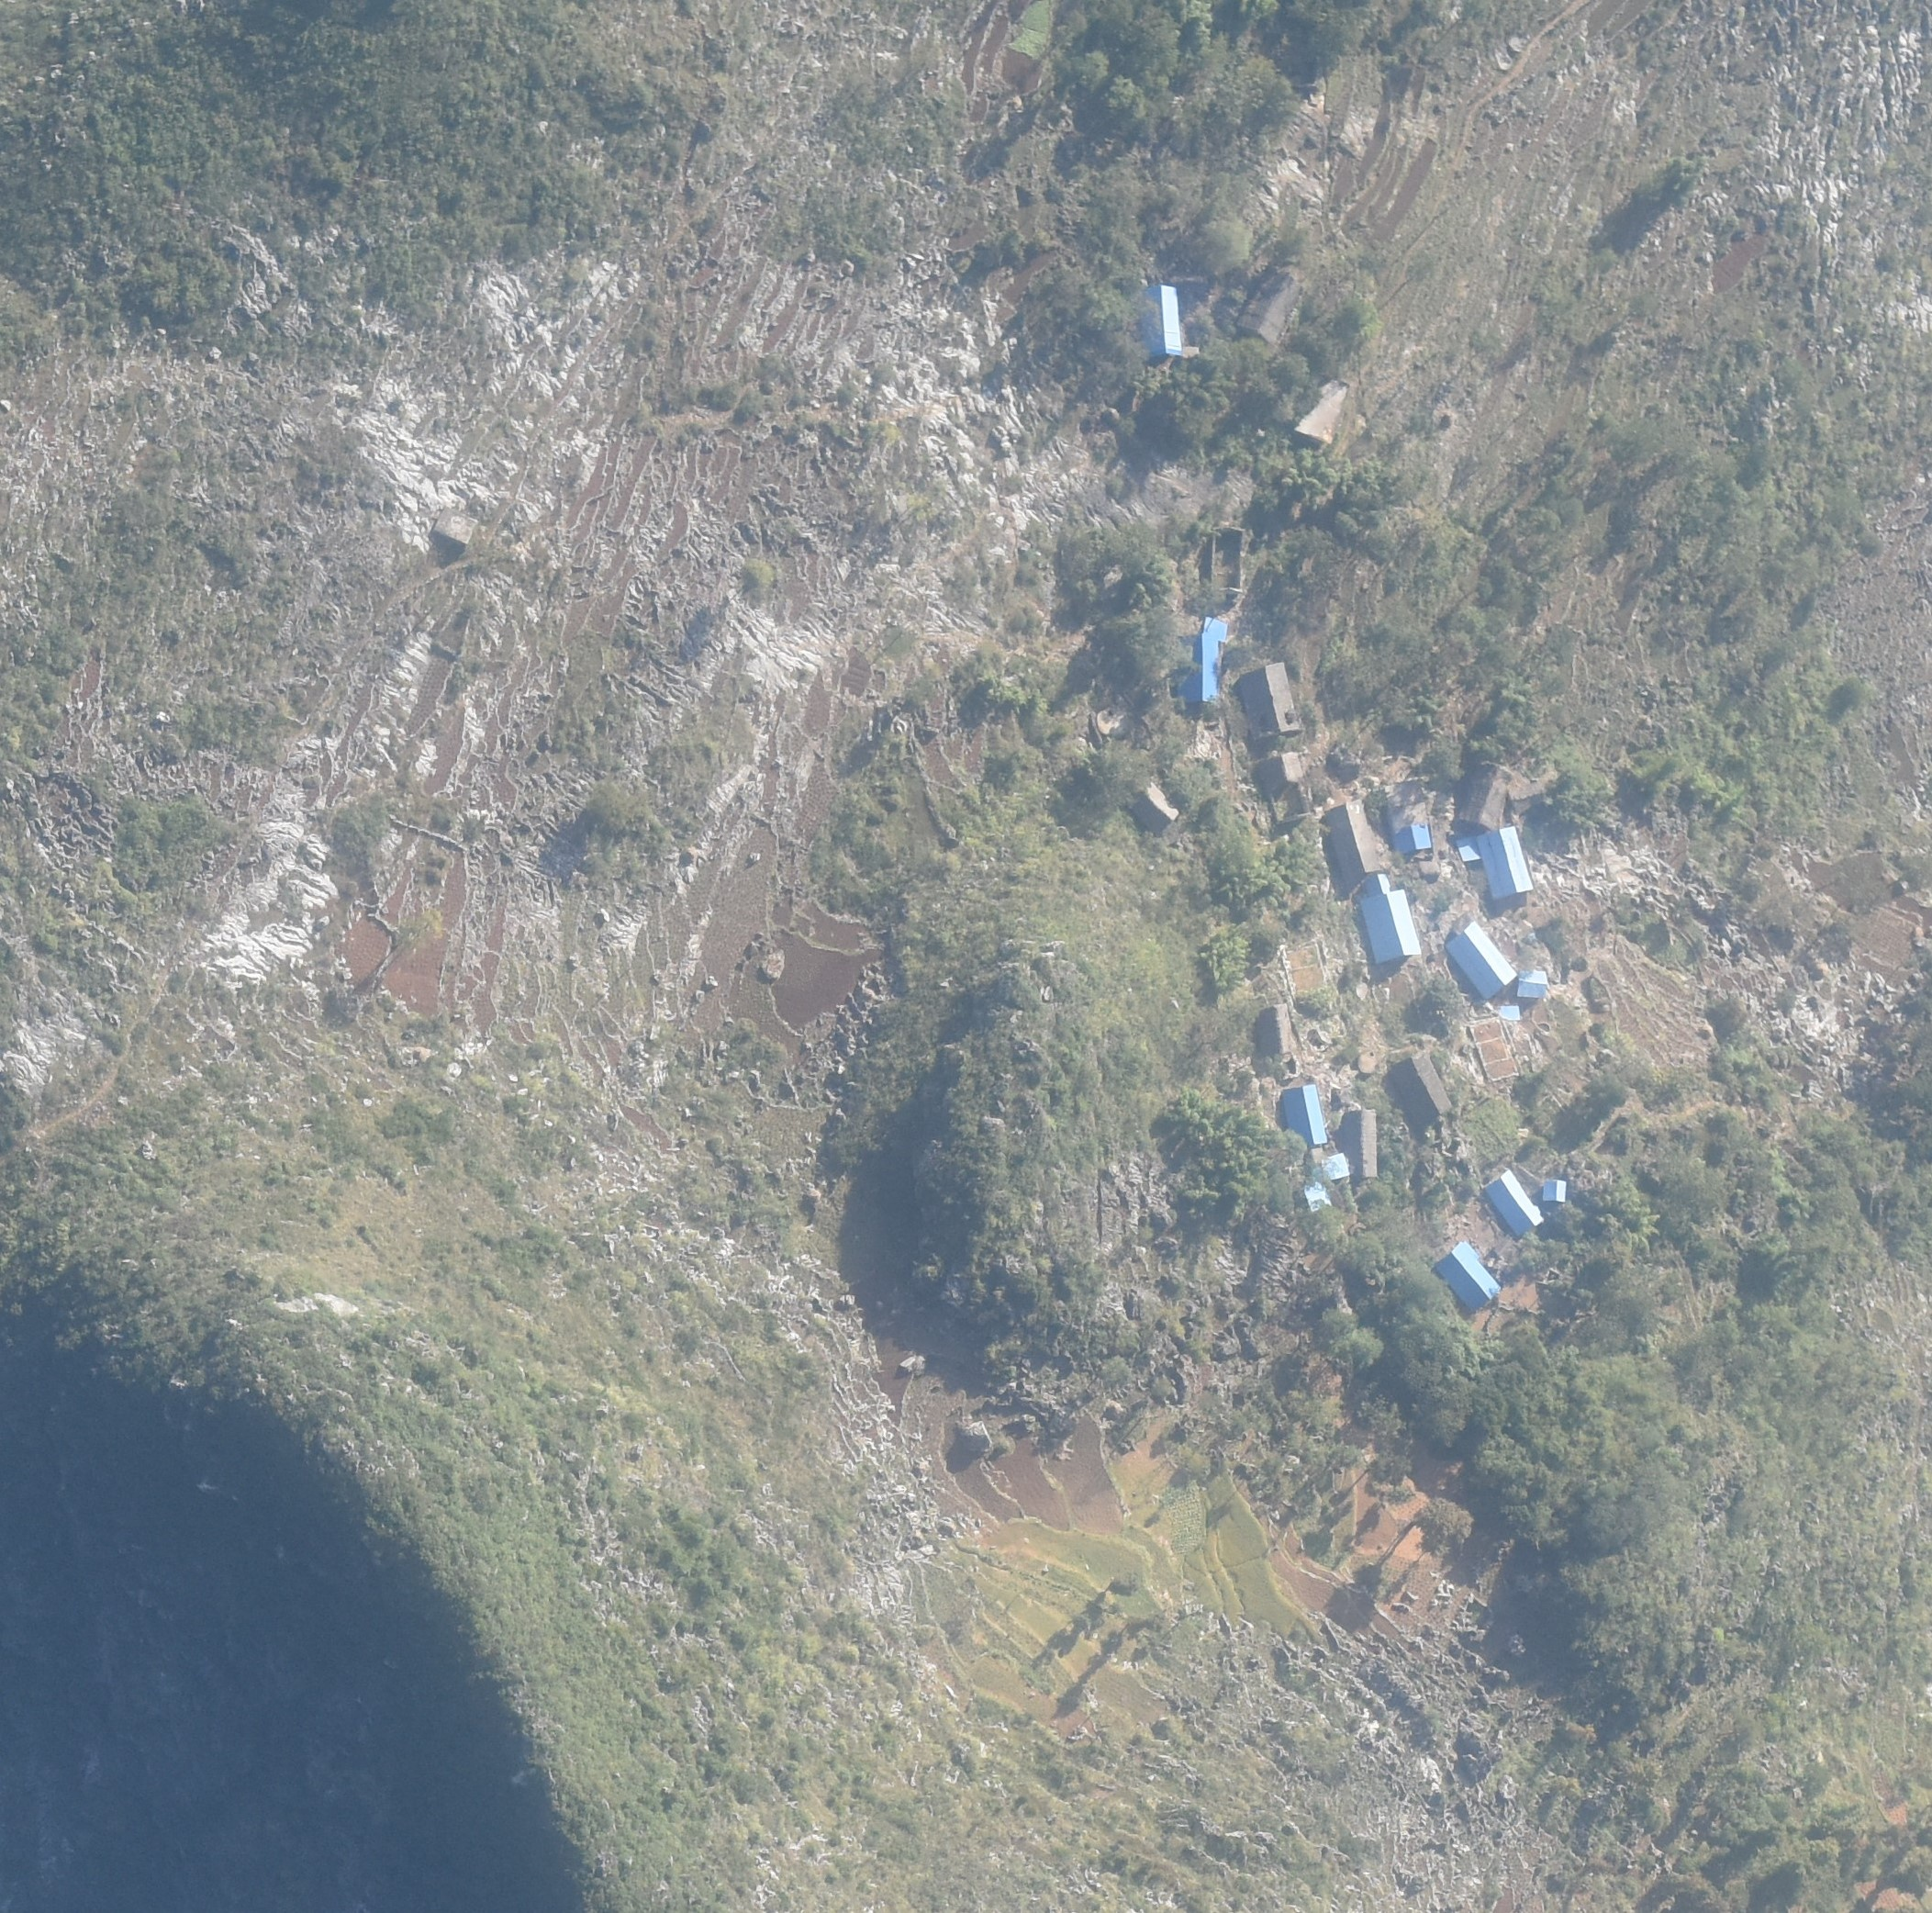building: (1238, 265, 1303, 347), (1328, 801, 1380, 886), (1242, 662, 1300, 738), (1294, 375, 1350, 447), (1457, 760, 1513, 829), (1396, 1051, 1450, 1119), (1133, 783, 1179, 834), (1345, 1111, 1378, 1177), (1259, 1002, 1294, 1055), (1258, 752, 1301, 788), (1506, 780, 1545, 813)
prefabricated-house: (1443, 921, 1515, 1000), (1436, 1239, 1499, 1310), (1363, 888, 1422, 964), (1478, 825, 1534, 899), (1487, 1170, 1543, 1239), (1137, 284, 1181, 359), (1286, 1084, 1328, 1151), (1179, 634, 1219, 702), (1394, 822, 1431, 853), (1303, 1181, 1331, 1214), (1517, 969, 1547, 999), (1321, 1153, 1350, 1181), (1457, 837, 1485, 864), (1202, 617, 1230, 639), (1545, 1179, 1566, 1204), (1364, 874, 1391, 893), (1498, 1004, 1520, 1021)
well: (1098, 706, 1128, 738), (1357, 1051, 1378, 1076)
